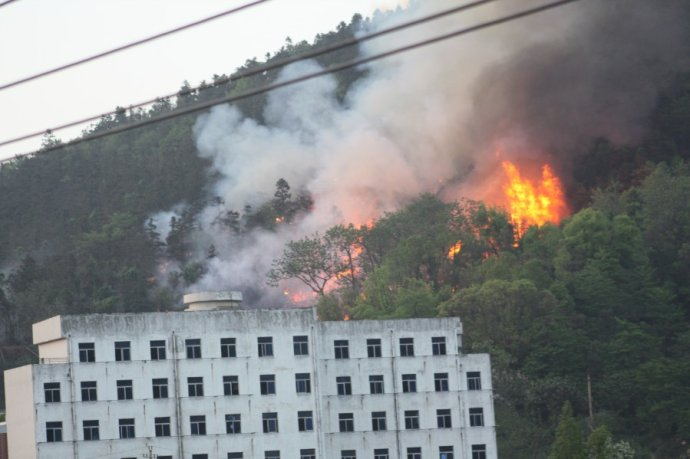fire: (494, 153, 574, 237)
